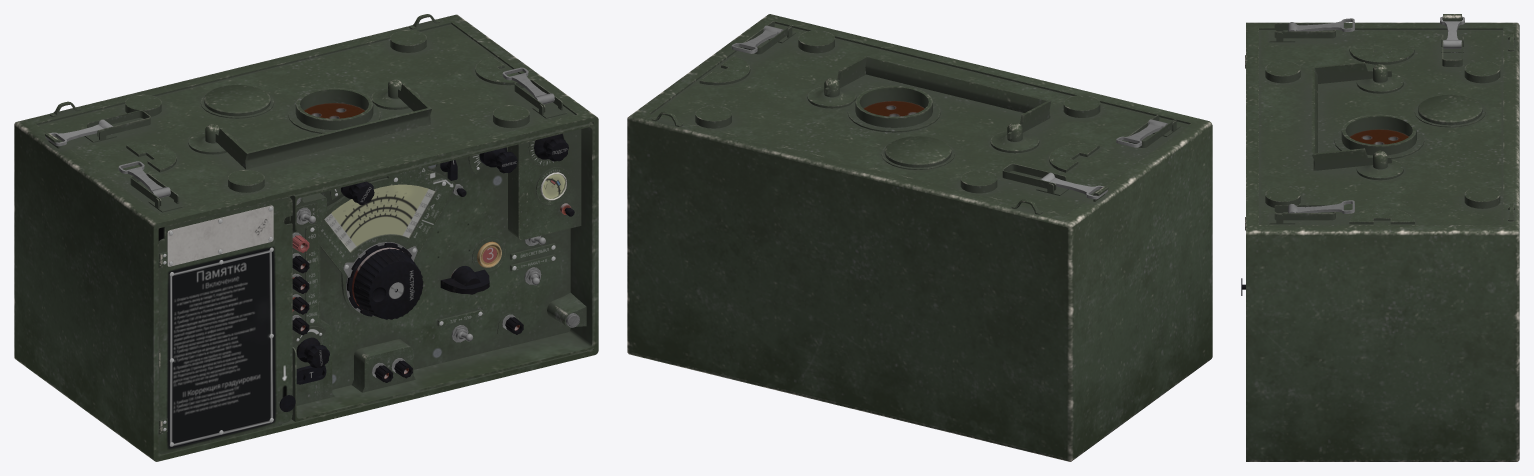
The model's file is sever-DRssHiFs.glb.
3 views of the same model, side by side, from view 1: azimuth 30°, elevation 25°; view 2: azimuth 150°, elevation 25°; view 3: azimuth 270°, elevation 25° (orthographic). The views are drawn at different scales.
Visible parts, largest first — view 1: P-305; view 2: P-305; view 3: P-305.
Part boxes in pixels (x1,y1,x2,y2): P-305: [14, 14, 598, 461]; P-305: [627, 14, 1212, 461]; P-305: [1241, 14, 1519, 461].
Bounding box in the file's own units: 75.39 × 43.04 × 42.14.
1 material, 1 textured.
